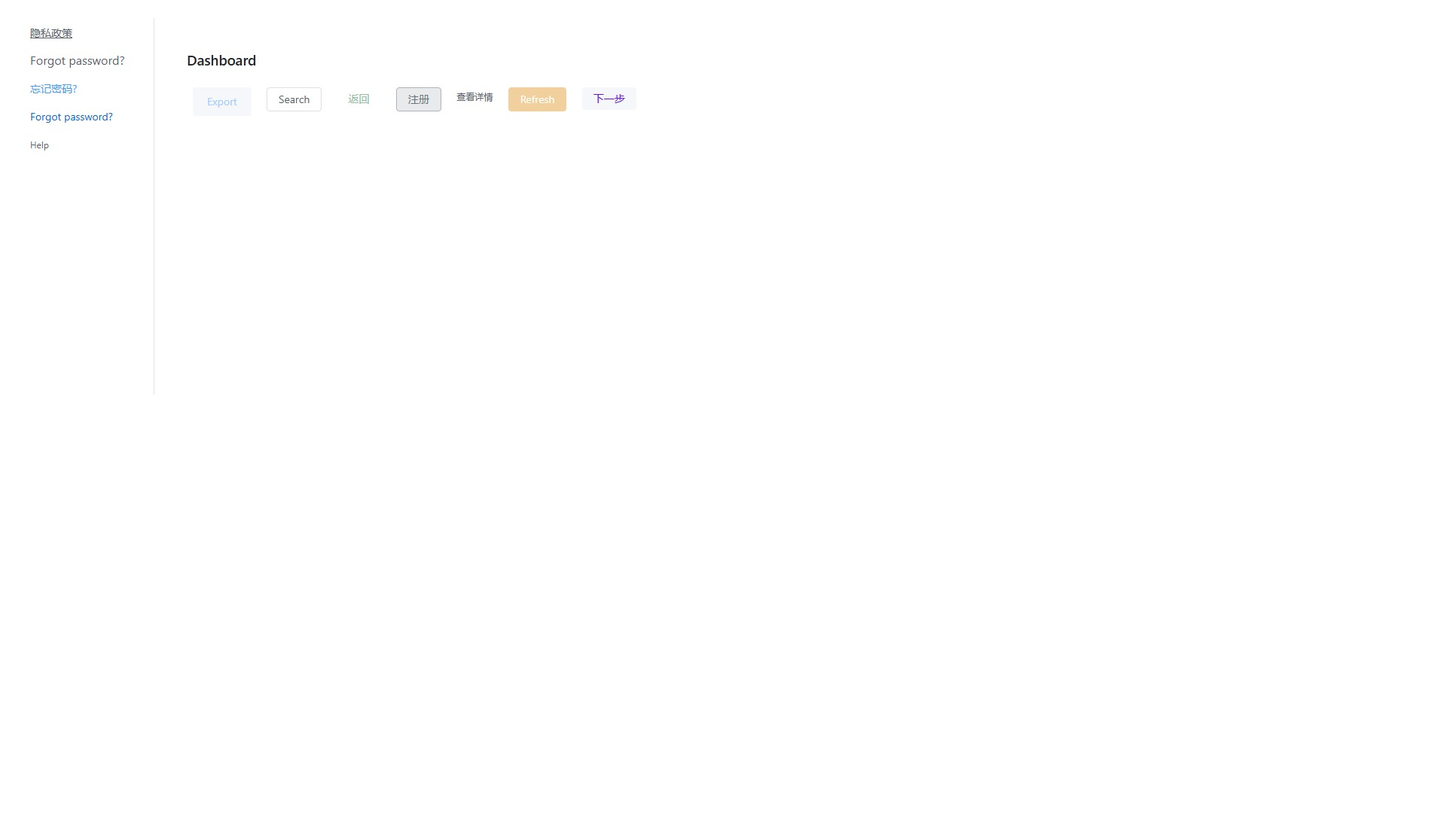button: (193, 87, 251, 116), (508, 87, 567, 111), (267, 87, 322, 111), (582, 87, 636, 110), (396, 87, 441, 111), (337, 87, 381, 110)
link: (30, 52, 125, 68), (30, 109, 113, 123), (30, 81, 77, 96), (30, 26, 72, 40), (457, 90, 493, 102), (30, 139, 49, 151)
